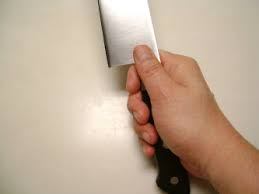knife: (95, 1, 197, 193)
